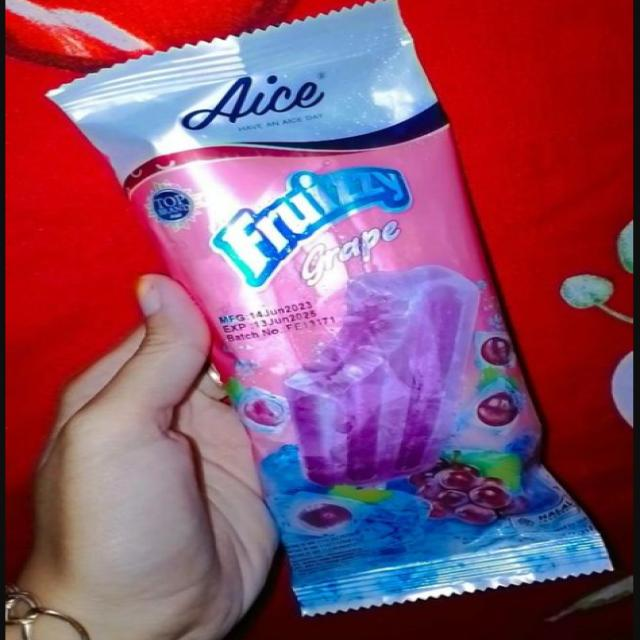KemasanPlastik: (15, 0, 613, 616)
